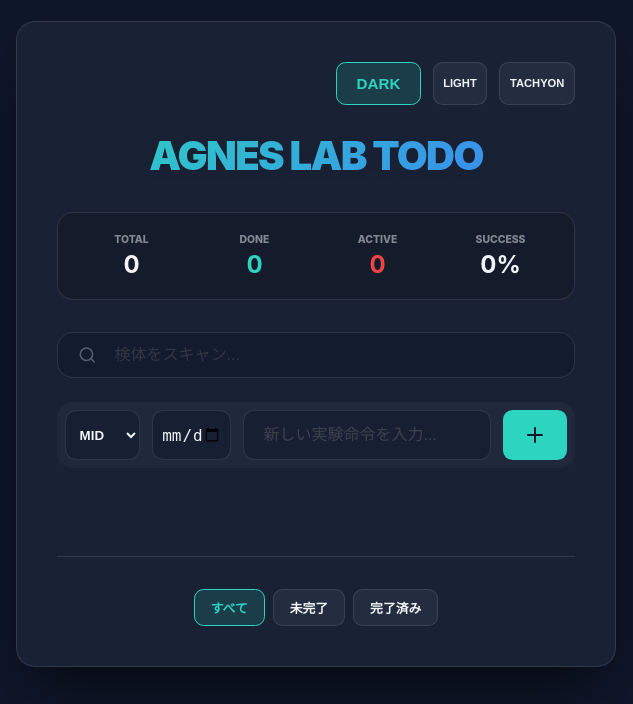
Test: AGNES LAB TODO UI › can register a new experiment (add todo)
This screenshot has width=633, height=704.
Type "Synthesize caffeine" into the field with placeholder "新しい実験命令を入力..." at [367, 435], box [243,410,491,460]
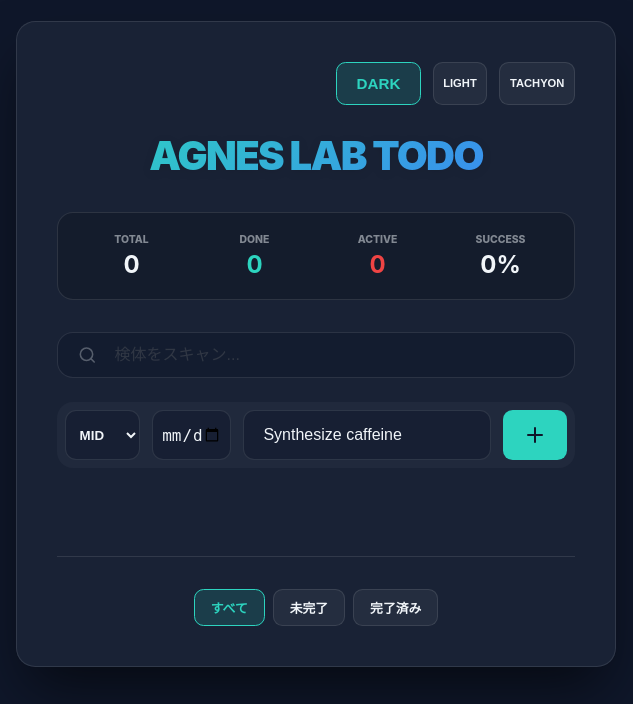
Click the button named "plus" at [535, 435], box [503,410,567,460]
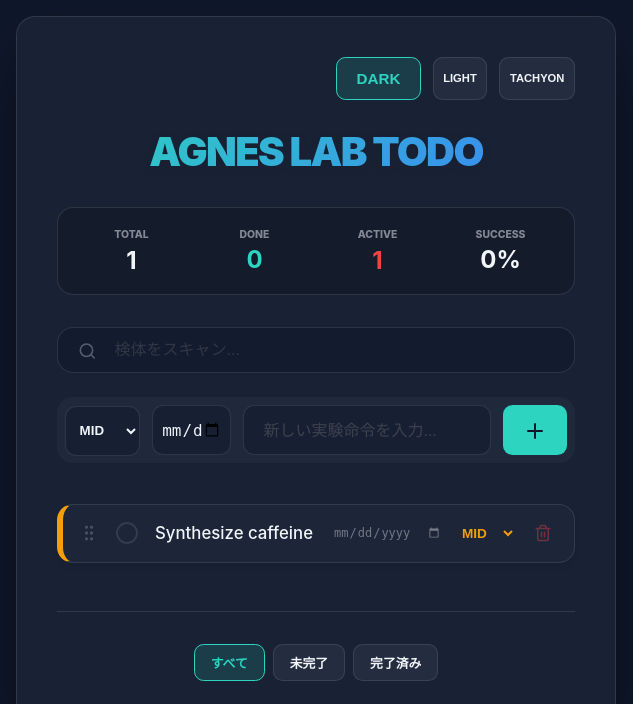
Result: the text "Synthesize caffeine" is shown at [155,523,316,543]
